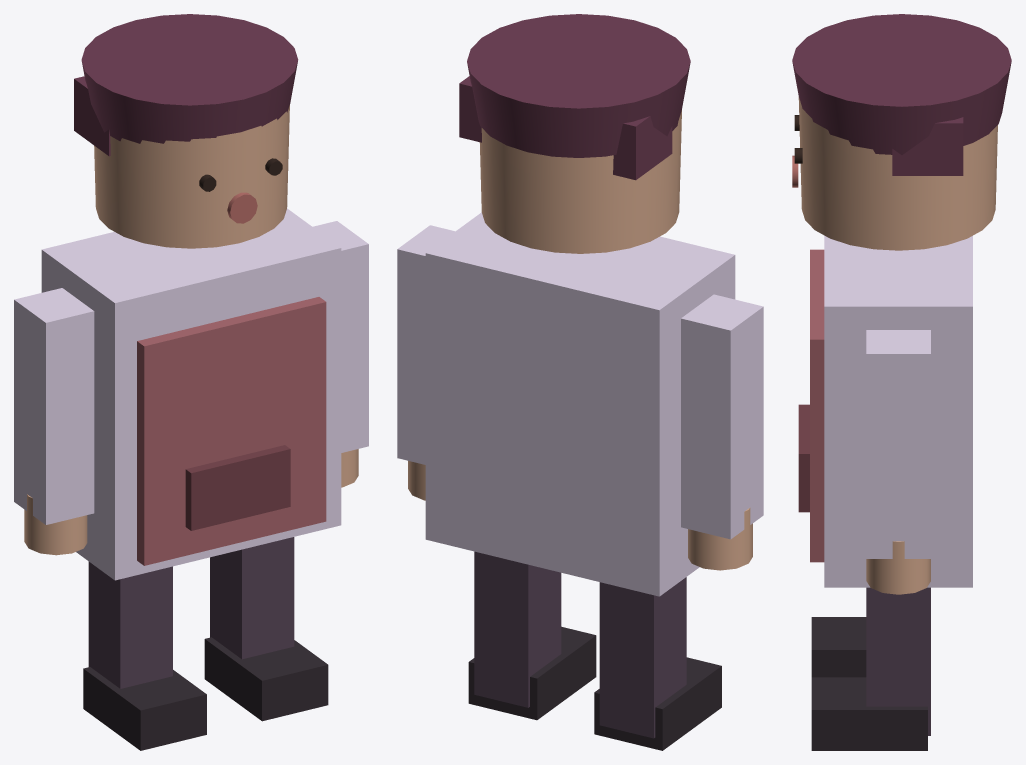
The model's file is customer-06.glb.
The picture shows the model from 3 angles, left to right: view 1: azimuth 30°, elevation 25°; view 2: azimuth 150°, elevation 25°; view 3: azimuth 270°, elevation 25°; orthographic projection. The views are drawn at different scales.
Visible parts, largest first — view 1: Shirt, Apron, Sleeve (×2), HairCap, Head, Leg (×2), Shoe (×2), ApronPocket, Hand (×2), HairFringe, Smile; view 2: Shirt, Sleeve (×2), HairCap, Leg (×2), Head, Shoe (×2), HairFringe, Hand (×2); view 3: Shirt, HairCap, Head, Sleeve, Shoe (×2), Leg, Apron, HairFringe, Hand, ApronPocket.
Boxes of the visible parts, x1,y1,x2,y2 form: Shirt: (41, 208, 341, 580); Apron: (137, 297, 326, 565); Sleeve (×2): (14, 221, 368, 524); HairCap: (81, 14, 298, 143); Head: (94, 105, 289, 248); Leg (×2): (88, 537, 294, 688); Shoe (×2): (83, 637, 328, 750); ApronPocket: (185, 445, 290, 530); Hand (×2): (24, 449, 358, 555); HairFringe: (74, 76, 110, 156); Smile: (227, 192, 257, 223); Shirt: (425, 212, 735, 596); Sleeve (×2): (397, 225, 763, 539); HairCap: (467, 14, 690, 157); Leg (×2): (474, 551, 686, 738); Head: (479, 110, 681, 253); Shoe (×2): (468, 626, 721, 750); HairFringe: (459, 76, 672, 180); Hand (×2): (408, 461, 752, 570); Shirt: (824, 235, 972, 587); HairCap: (792, 14, 1011, 154); Head: (798, 96, 997, 250); Sleeve: (866, 330, 930, 558); Shoe (×2): (811, 617, 927, 750); Leg: (866, 587, 930, 735); Apron: (810, 249, 824, 562); HairFringe: (892, 117, 963, 175); Hand: (866, 541, 930, 594); ApronPocket: (798, 404, 809, 512).
Size of the model in its own units: 1.18 by 2.2 by 0.68.
